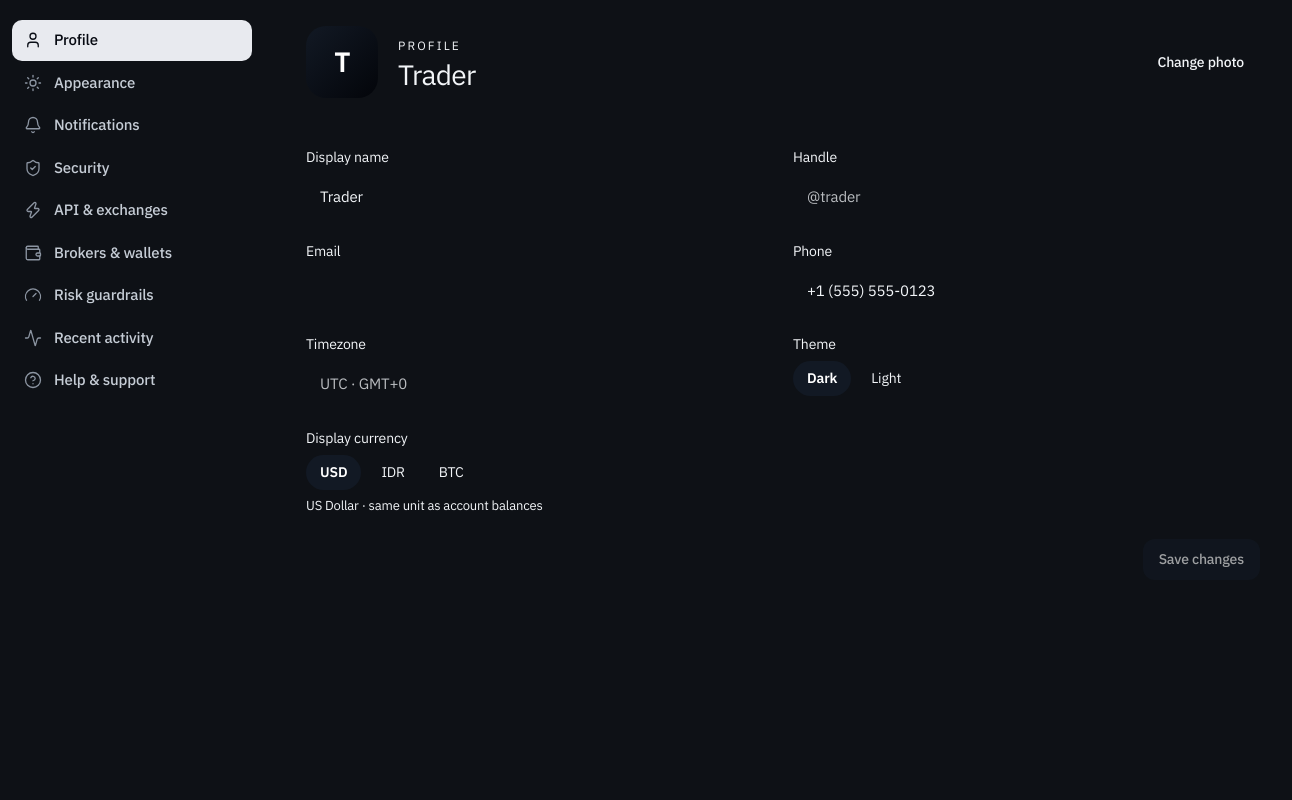
Test: SettingsPage — account-type-specific risk section › renders the trading concurrency/vol-targeting controls for a TRADING account
Click the button "Risk guardrails".
click(132, 295)  # box [12,275,252,316]
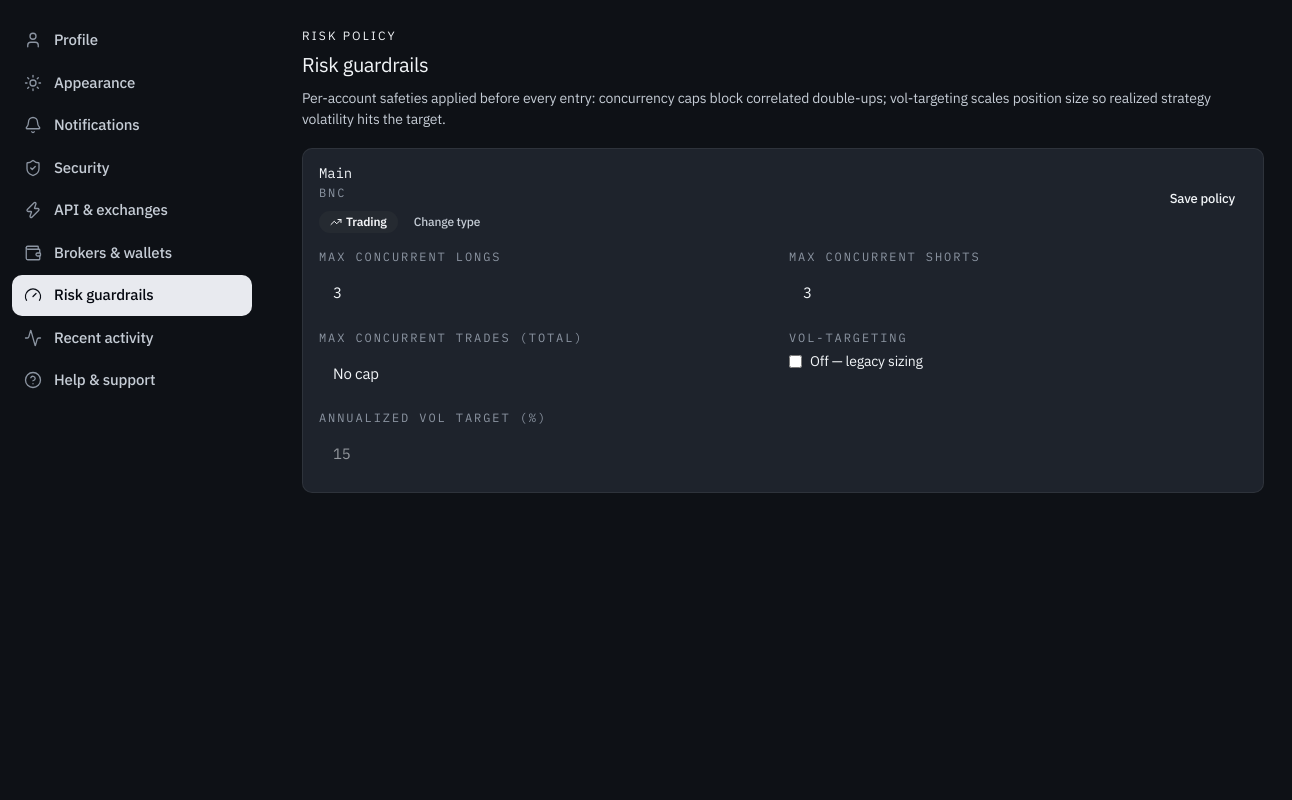
Expected: the text "Max concurrent longs" is shown, [319,249,501,264]
Expected: the text "Max concurrent shorts" is shown, [789,249,980,264]
Expected: the text "Vol-targeting" is shown, [789,330,908,344]
